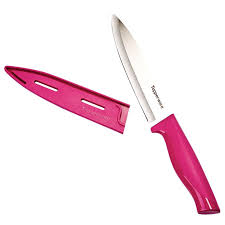kuchillu: (107, 11, 223, 217)
